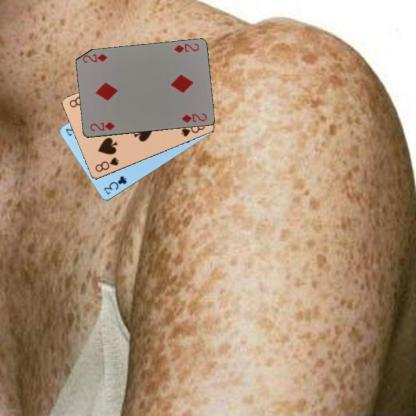2d: (87, 119, 116, 133), (172, 40, 200, 54)
3c: (102, 173, 128, 196)
8s: (92, 154, 120, 173)
